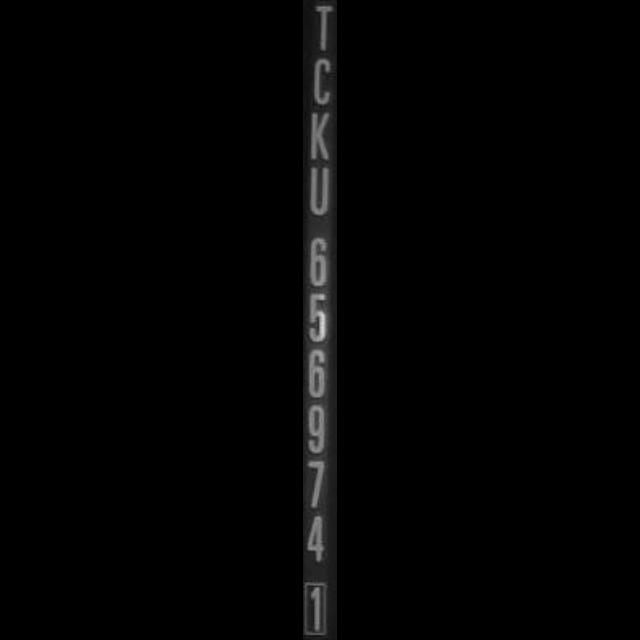1: (303, 578, 337, 640)
4: (303, 508, 337, 568)
5: (303, 286, 337, 348)
6: (303, 342, 337, 404), (303, 232, 337, 286)
7: (303, 454, 337, 514)
9: (303, 399, 337, 453)
c: (303, 50, 337, 111)
k: (303, 104, 337, 164)
t: (303, 0, 337, 54)
u: (303, 164, 337, 222)
